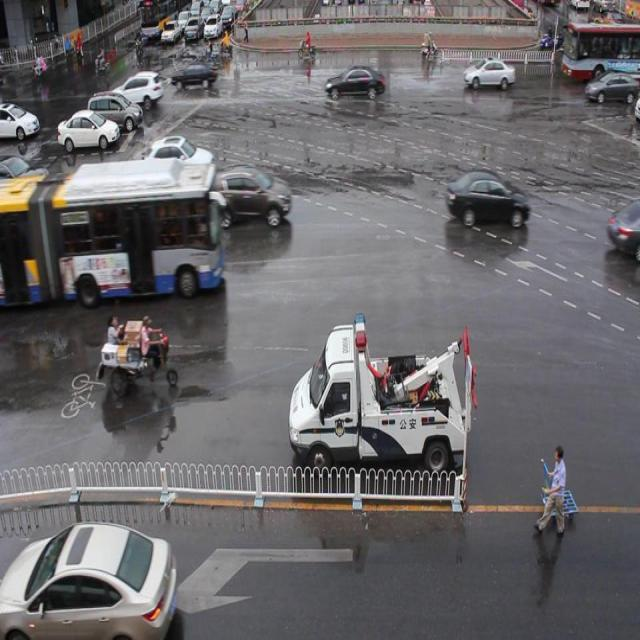car: (198, 163, 292, 226), (444, 168, 529, 230), (139, 136, 214, 188), (583, 68, 640, 109), (326, 66, 386, 102), (606, 195, 640, 256), (463, 57, 514, 92), (172, 63, 218, 92)
van: (1, 161, 223, 299), (561, 19, 640, 83)
